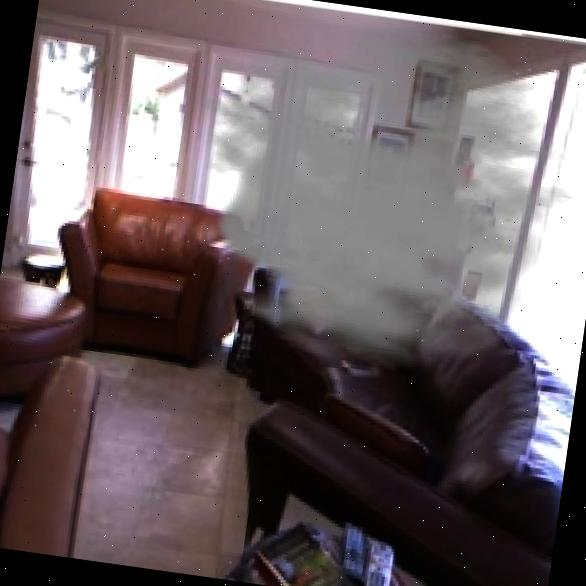smoke: (164, 0, 586, 395)
